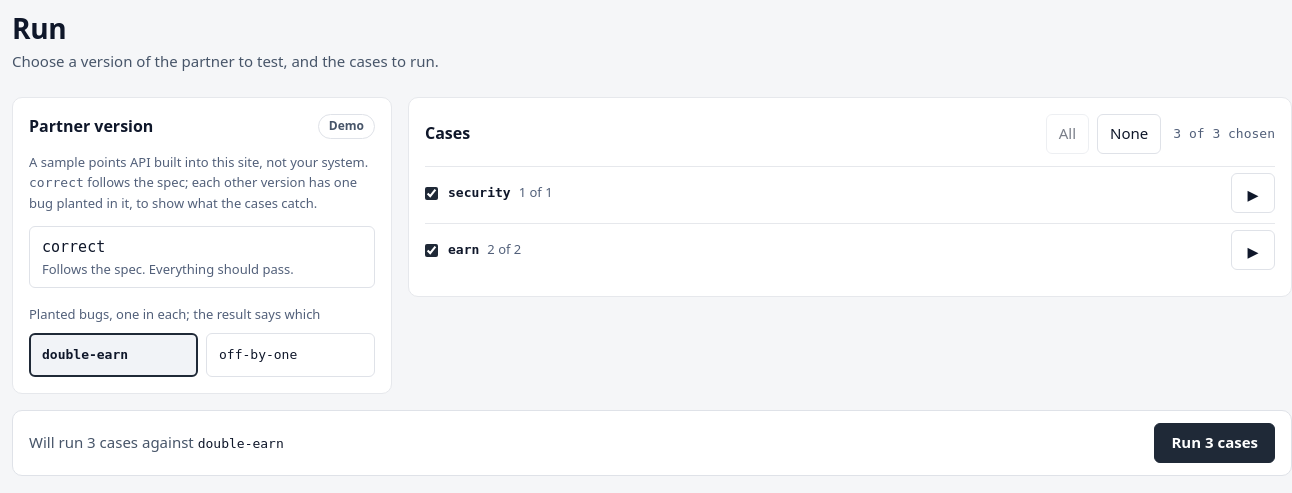
Test: the Run page › choosing cases › unticking one case of a group leaves the others, and the group shows it is partly chosen
Click the button named "Show the earn cases" at x=1253, y=250, box [1231,230,1275,270]
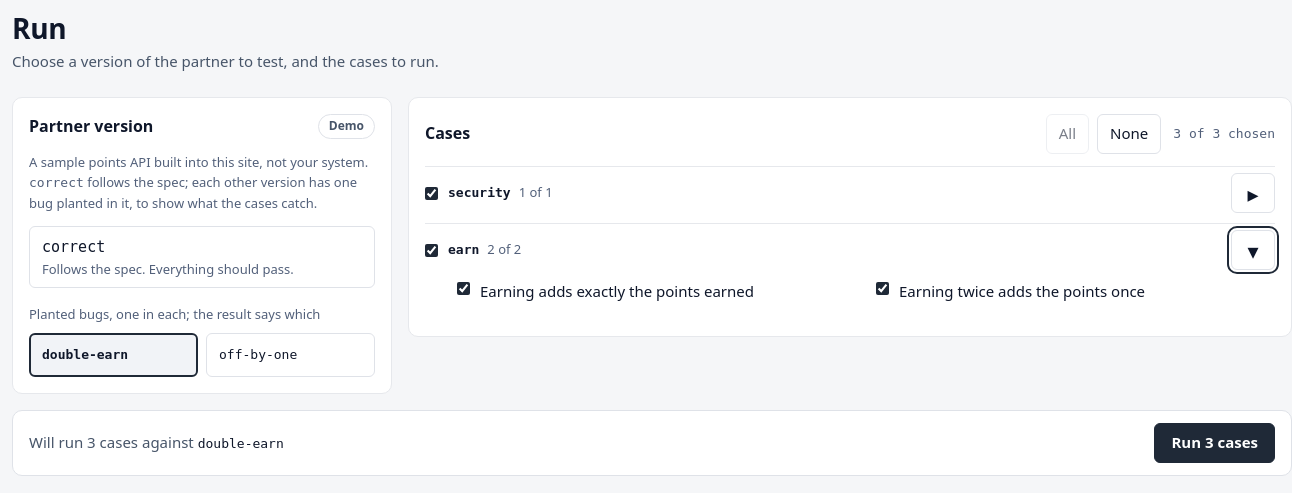
Click the checkbox labelled "Earning adds exactly the points earned" at x=464, y=288, box [457,282,470,295]
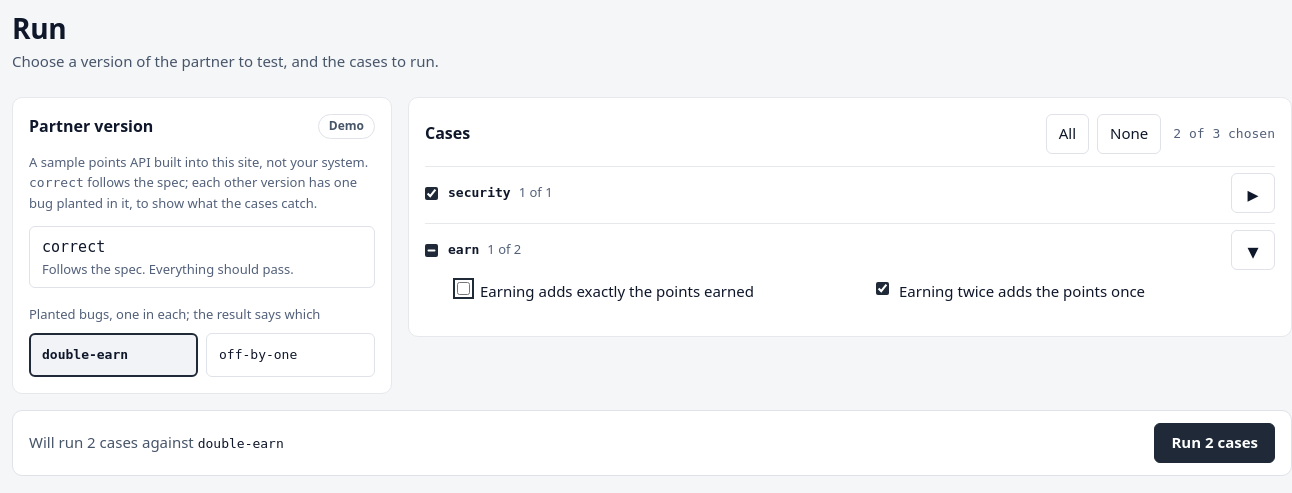
Now the checkbox labelled "Earning adds exactly the points earned" is not checked, box [457,282,470,295]
Now the checkbox labelled "Earning twice adds the points once" is checked, box [876,282,889,295]
Now the checkbox labelled "earn 1 of 2" is not checked, box [425,244,438,257]
